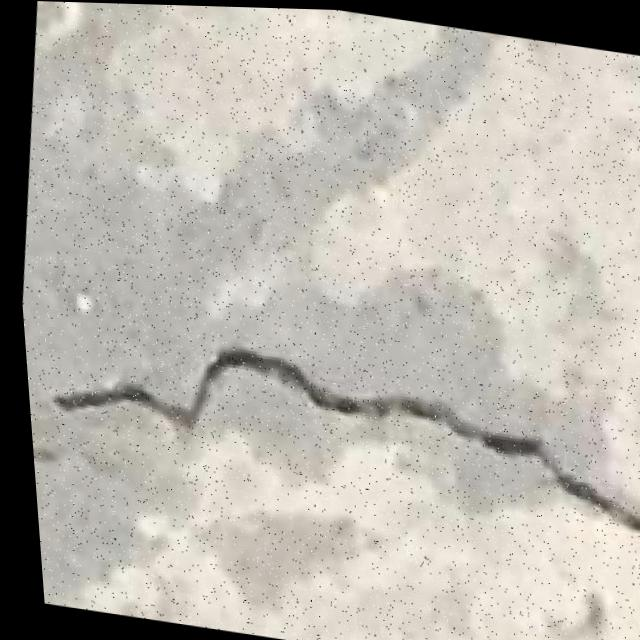Crack: (18, 306, 640, 563)
